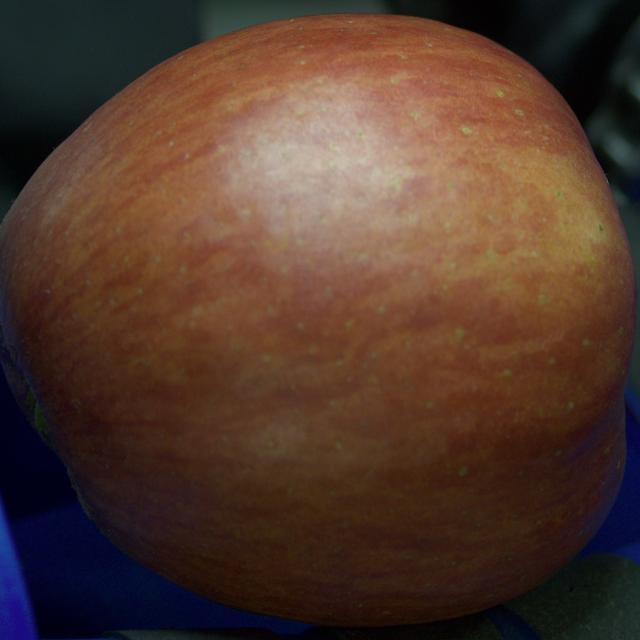apple: (0, 14, 636, 626)
